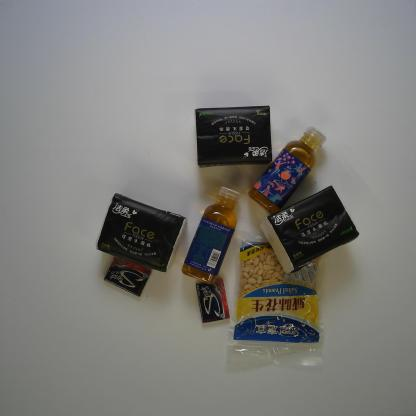Dried Fruit: (226, 228, 326, 368)
Drink: (246, 125, 328, 215), (180, 185, 242, 285)
Gum: (103, 255, 152, 297), (195, 278, 231, 324)
Tissue: (259, 184, 361, 276), (95, 192, 189, 274), (194, 104, 274, 169)
